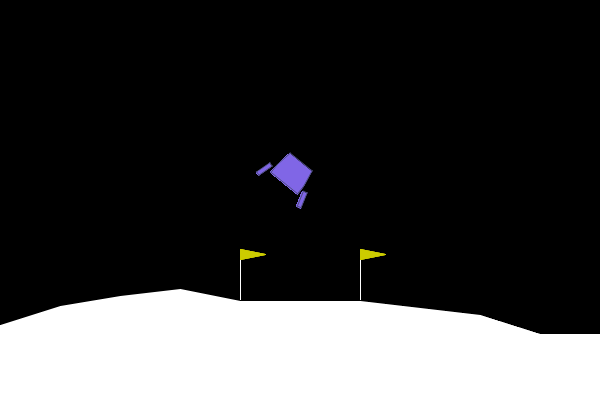lander: (254, 142, 325, 211)
